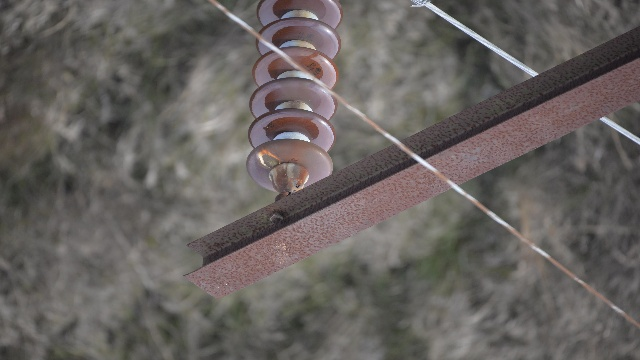insulator_unspecified: (246, 0, 343, 196)
pollution_flashover_local: (256, 146, 283, 172)
